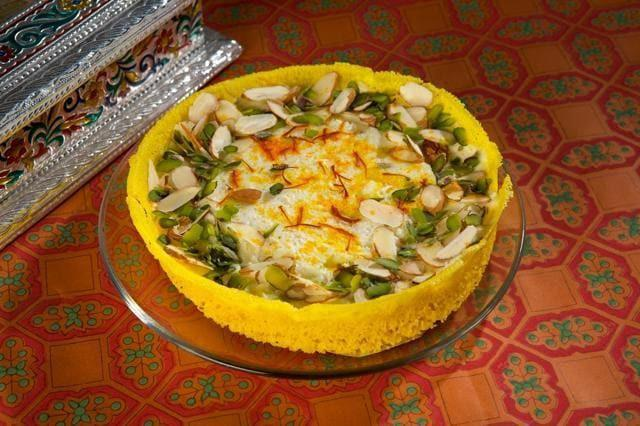Ghevar: (122, 60, 512, 355)
